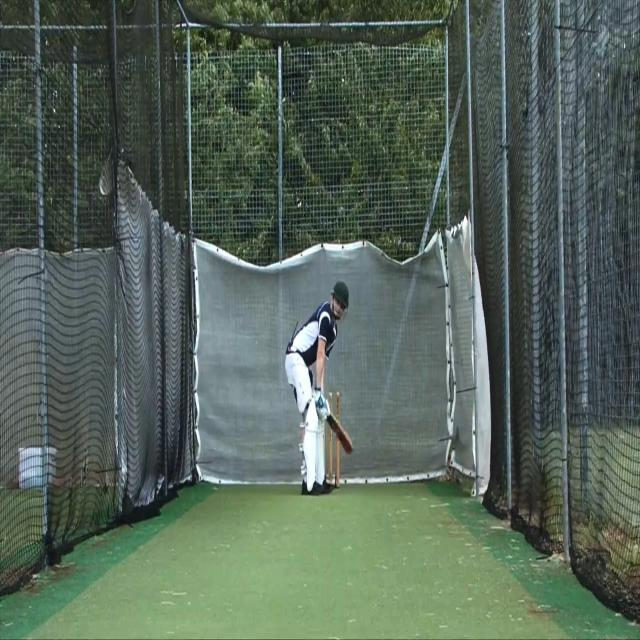batsman: (284, 278, 355, 498)
